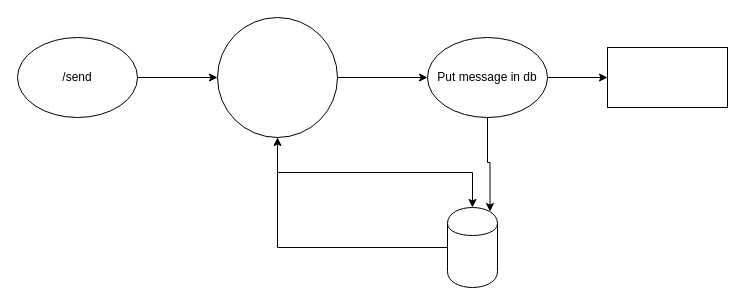
Some shapes in this 745 by 305 pixel diagram are drawn without their labels. Here are the shapes that lost their labels. From the top down, the centre of each, then its label:
the point at 277,77: Get nickname
the point at 667,77: Return success state
